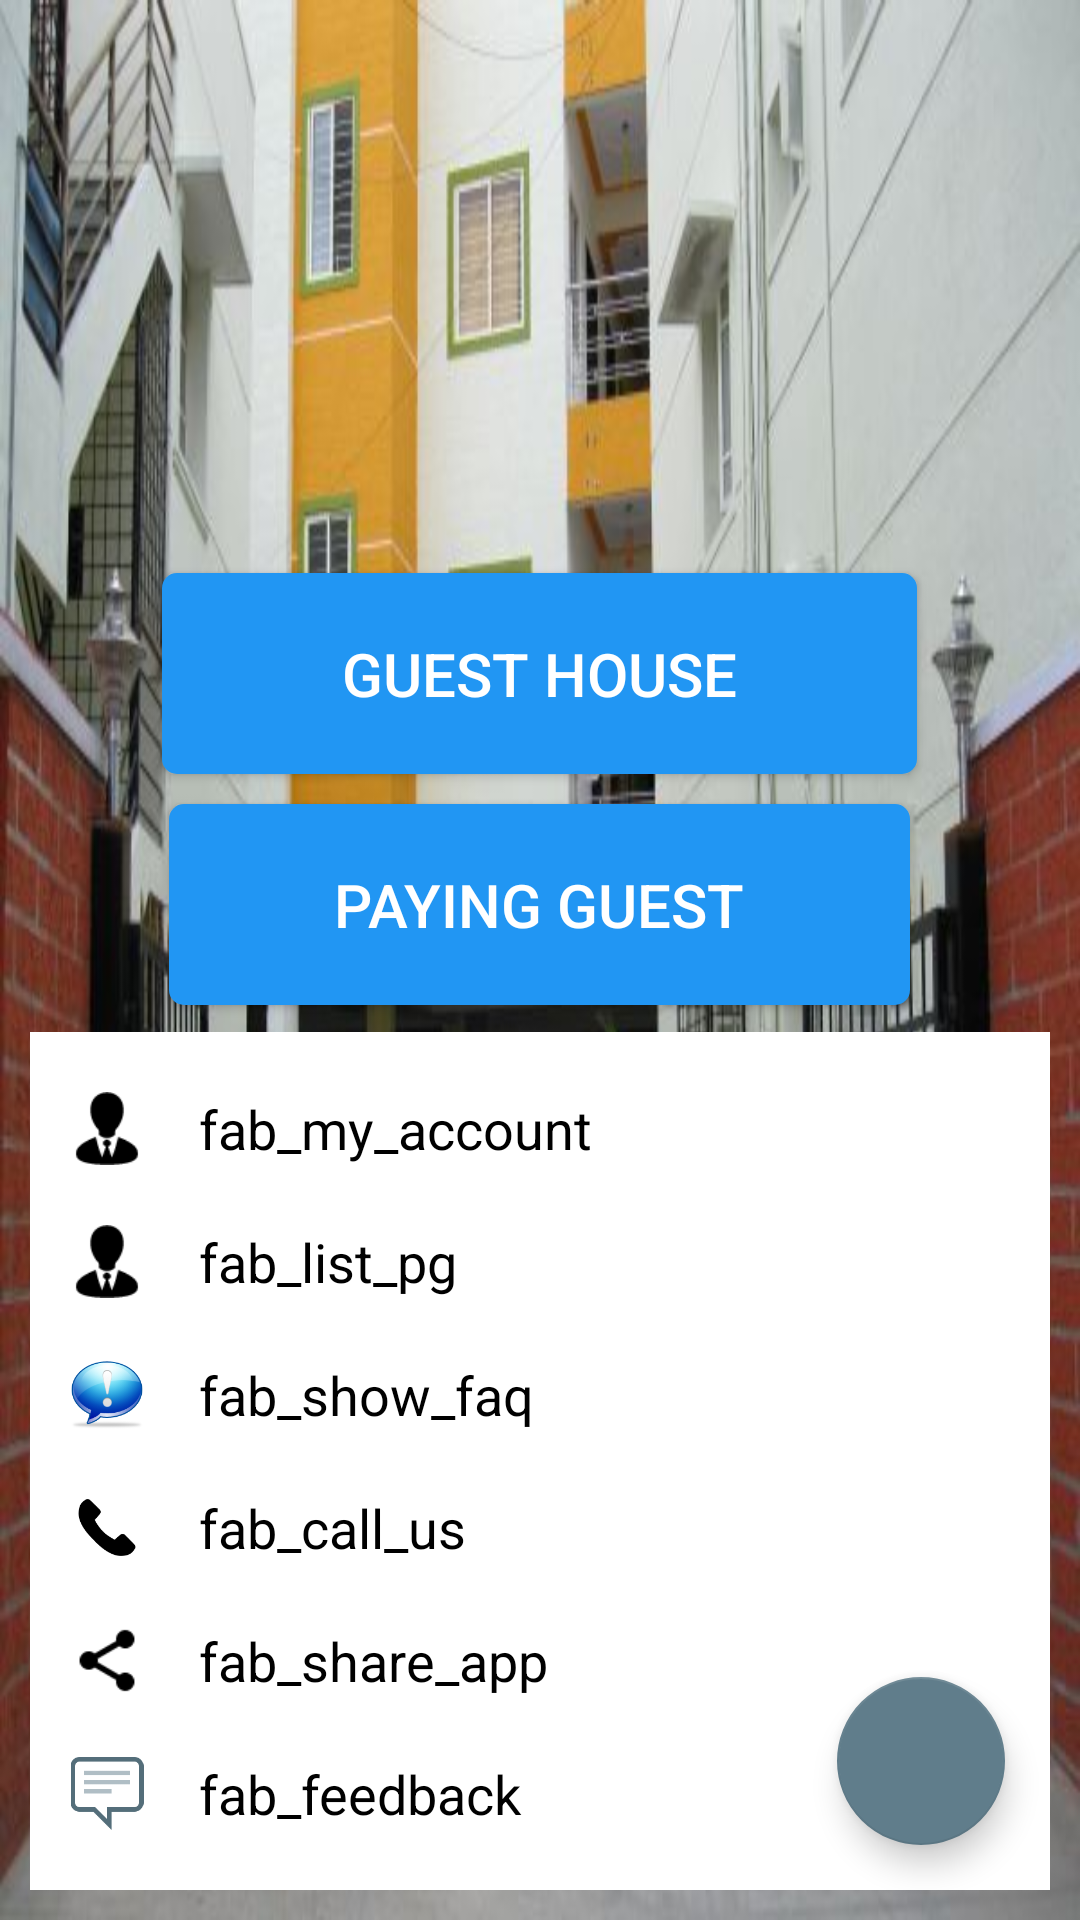

Icons on this 1080px×1920px Android screen, each with its box as [x1,y1,x2,y2]:
acc: [76,1092,138,1165], [76,1225,138,1298]
